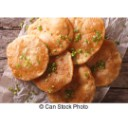poori: (68, 13, 105, 65), (6, 35, 48, 79), (49, 65, 96, 102), (84, 40, 121, 87), (32, 51, 72, 91), (33, 17, 72, 53)
